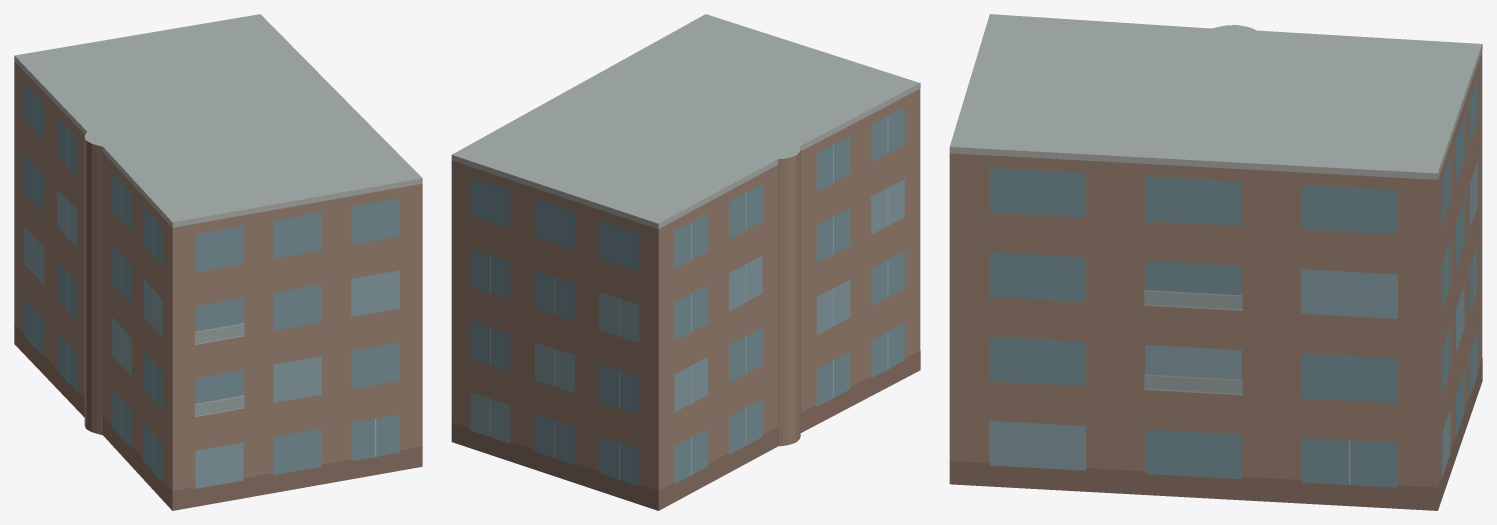
File: survey-upis-32670152.glb
The picture shows the model from 3 angles, left to right: view 1: azimuth 30°, elevation 25°; view 2: azimuth 150°, elevation 25°; view 3: azimuth 270°, elevation 25°; orthographic projection. The views are drawn at different scales.
Parts seen in each view (by area): view 1: survey-upis-32670152.tmp; view 2: survey-upis-32670152.tmp; view 3: survey-upis-32670152.tmp.
Boxes of the visible parts, x1,y1,x2,y2 form: survey-upis-32670152.tmp: (14, 14, 422, 510); survey-upis-32670152.tmp: (451, 14, 920, 510); survey-upis-32670152.tmp: (949, 14, 1482, 510).
Size of the model in its own units: 13.09 by 12.9 by 18.47.
